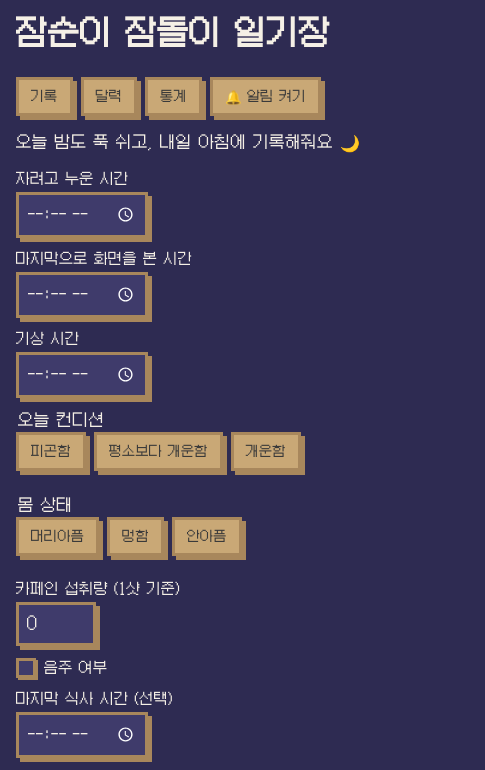
Scenario: App › switches to the 통계 tab
What coordinates should you click on to do the following:
click the button "통계"
I would click on:
 (174, 96)
Its box is [145, 77, 202, 116].
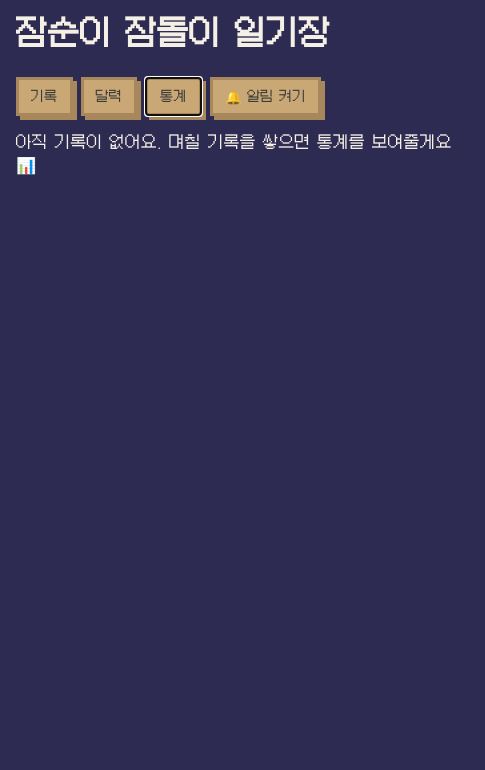
Now the text "아직 기록이 없어요. 며칠 기록을 쌓으면 통계를 보여줄게요 📊" is shown, box [16, 132, 464, 176]
